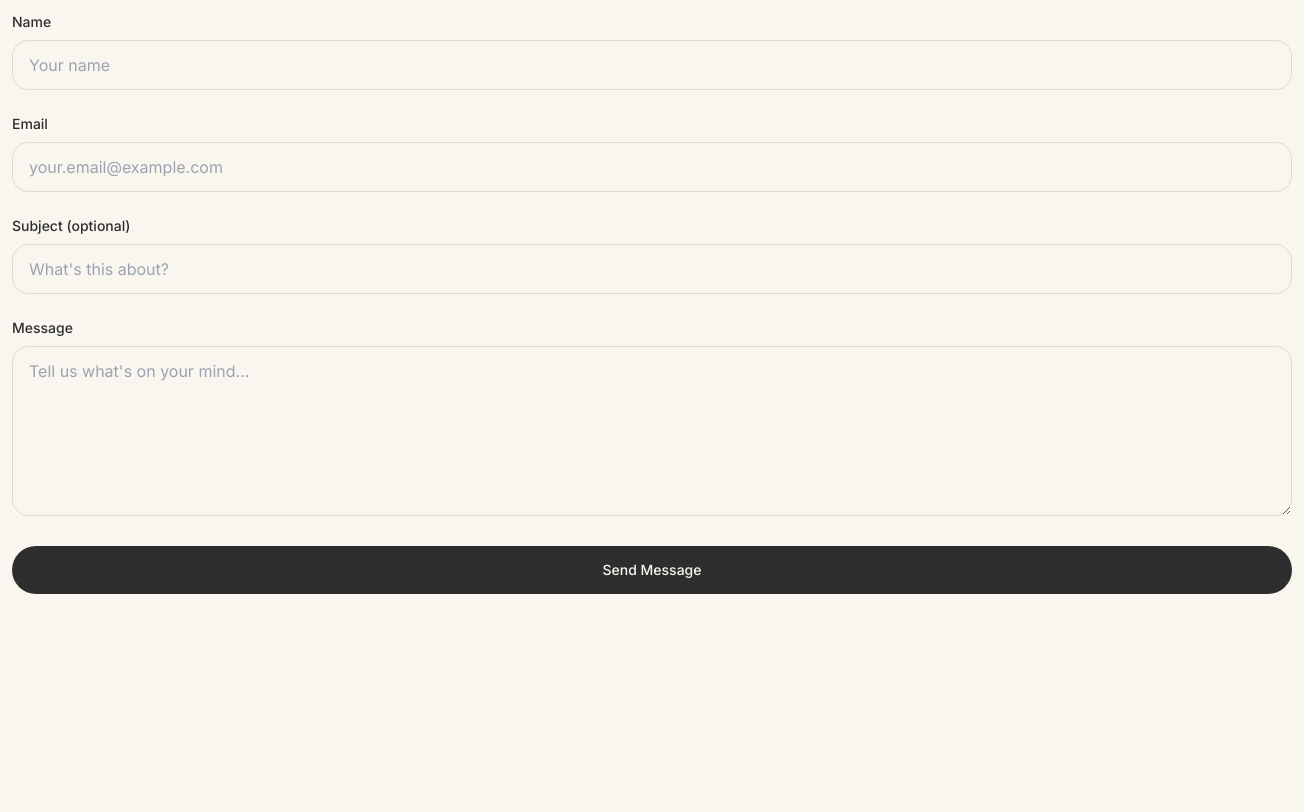
Scenario: ContactForm › shows an error and keeps what the reader wrote when the function fails
Type "Ada" into the field labelled "Name" at (652, 65), box [12,40,1292,90]
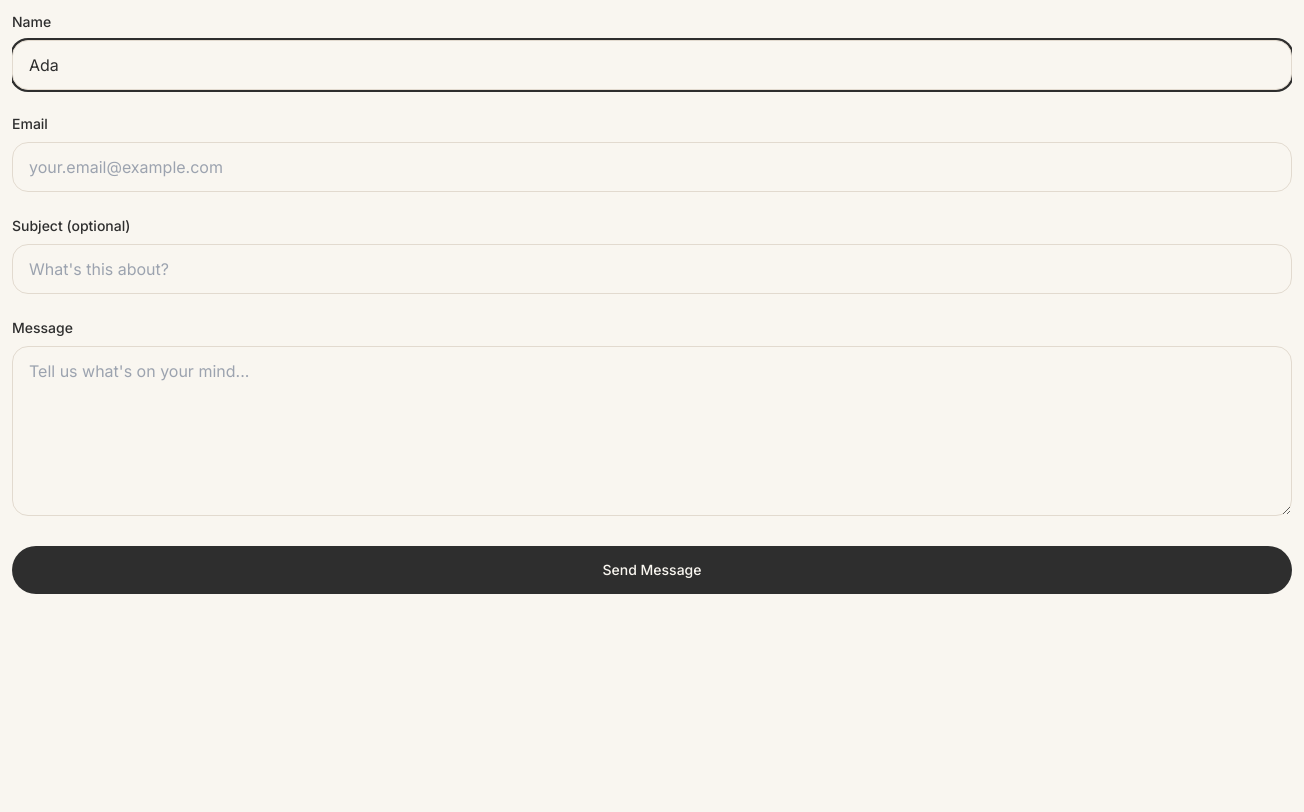
Type "ada@example.com" into the field labelled "Email" at (652, 167), box [12,142,1292,192]
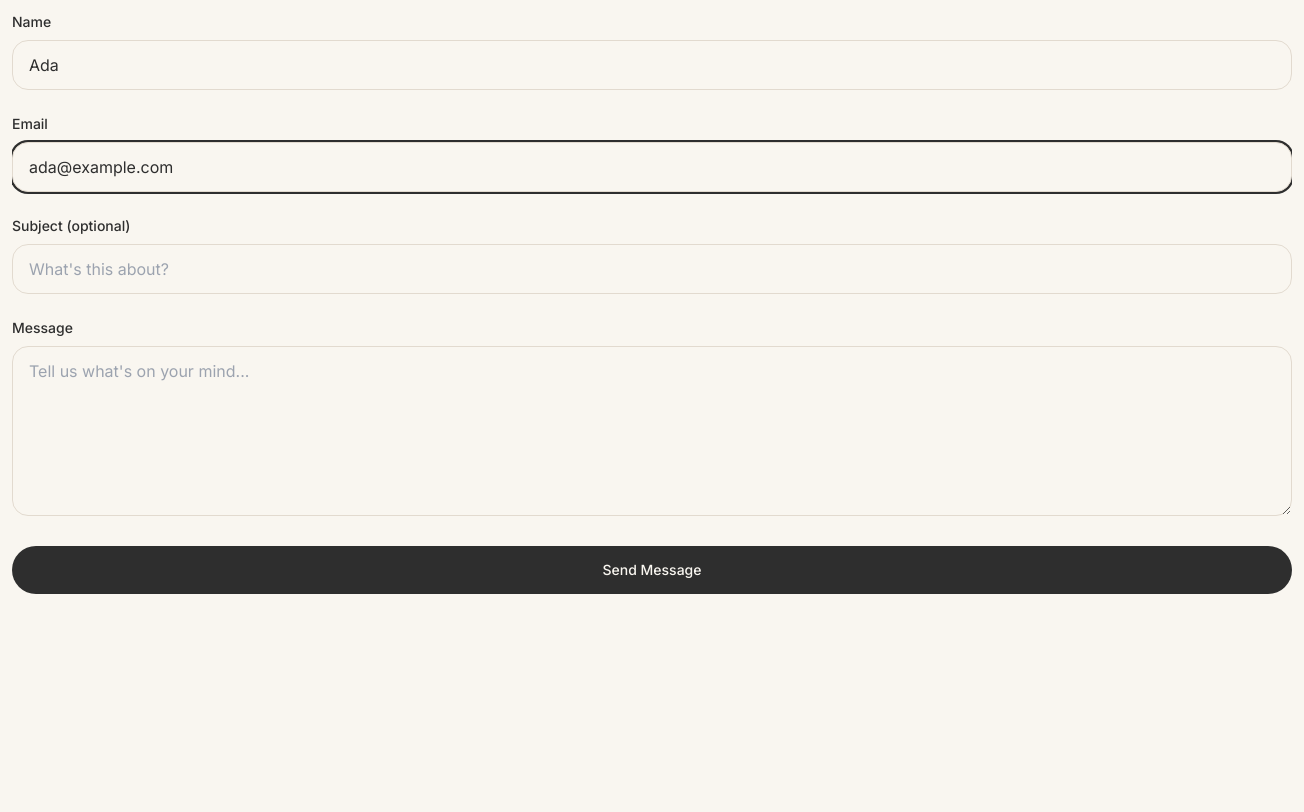
Type "Hello" into the field labelled "Subject (optional)" at (652, 269), box [12,244,1292,294]
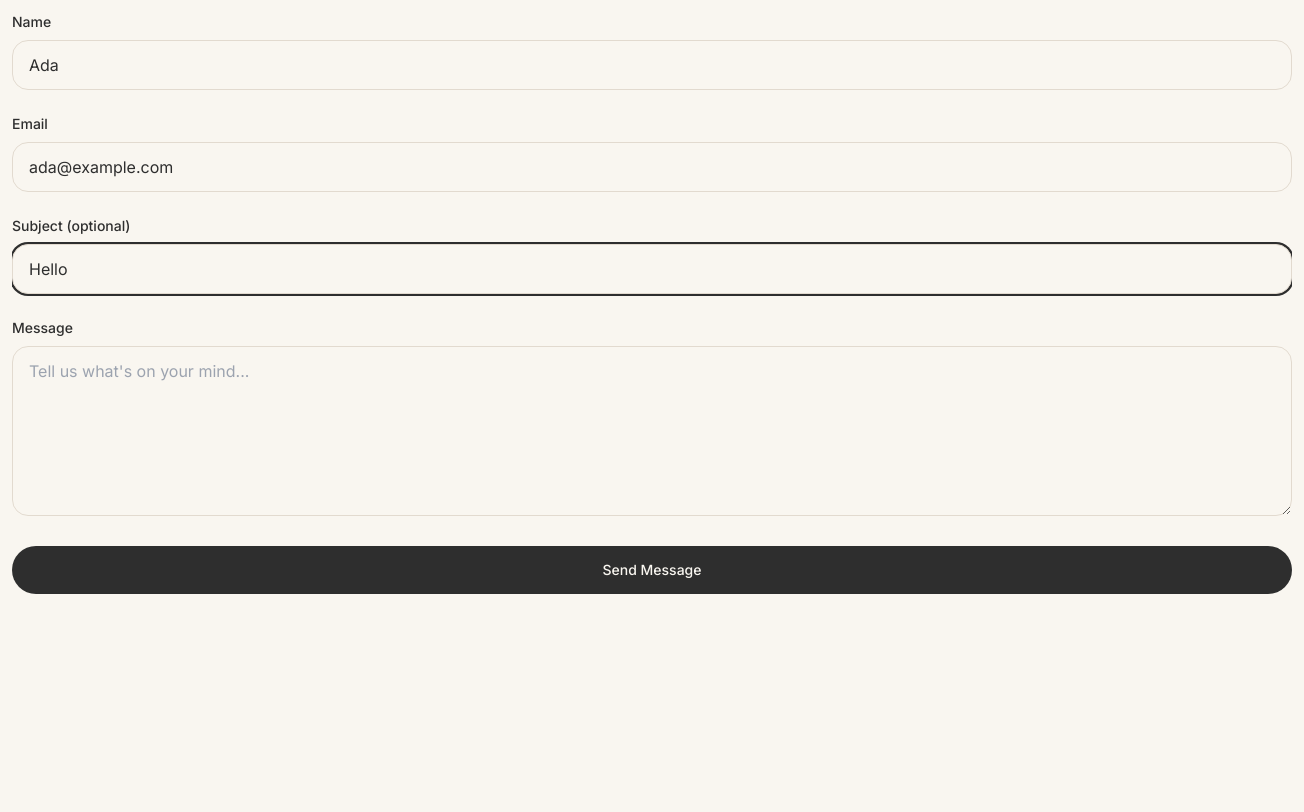
Type "Lovely site." into the text box labelled "Message" at (652, 431), box [12,346,1292,516]
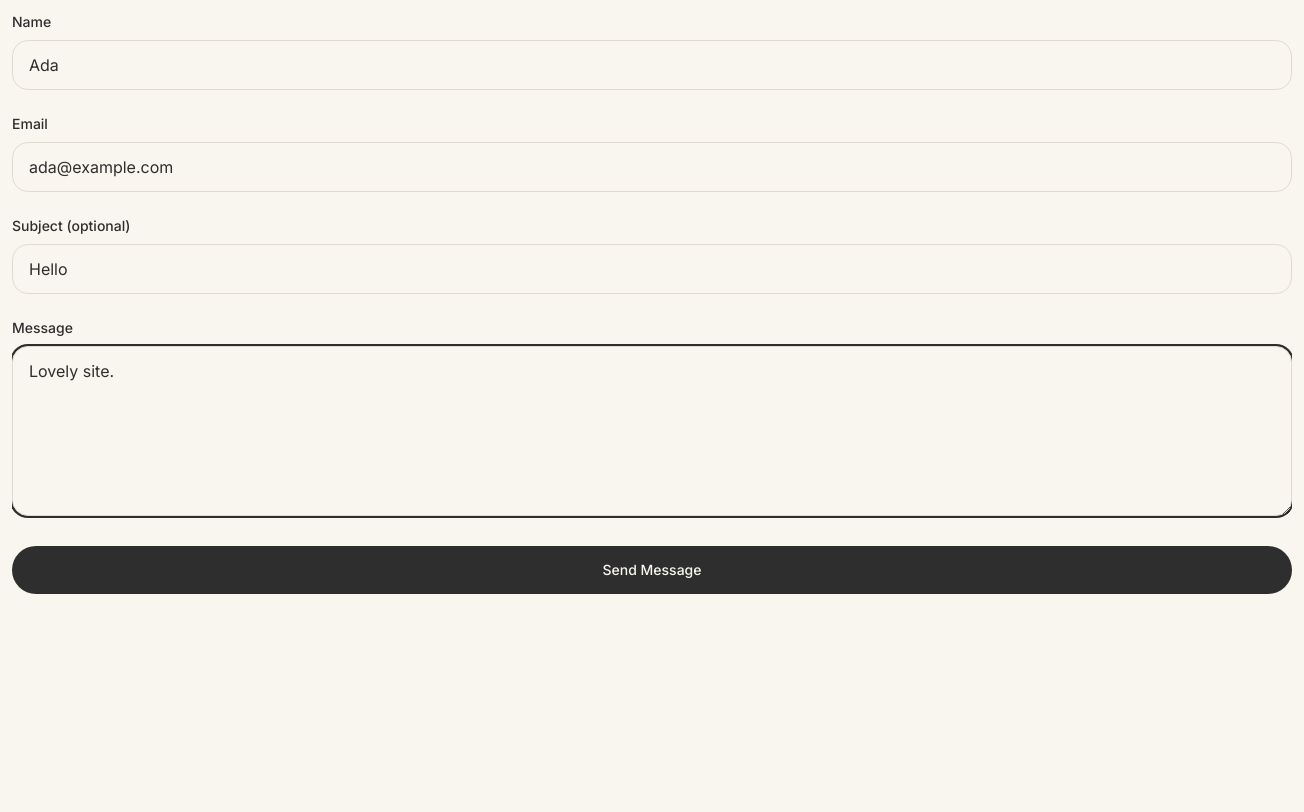
Click the button "Send Message" at (652, 570), box [12,546,1292,594]
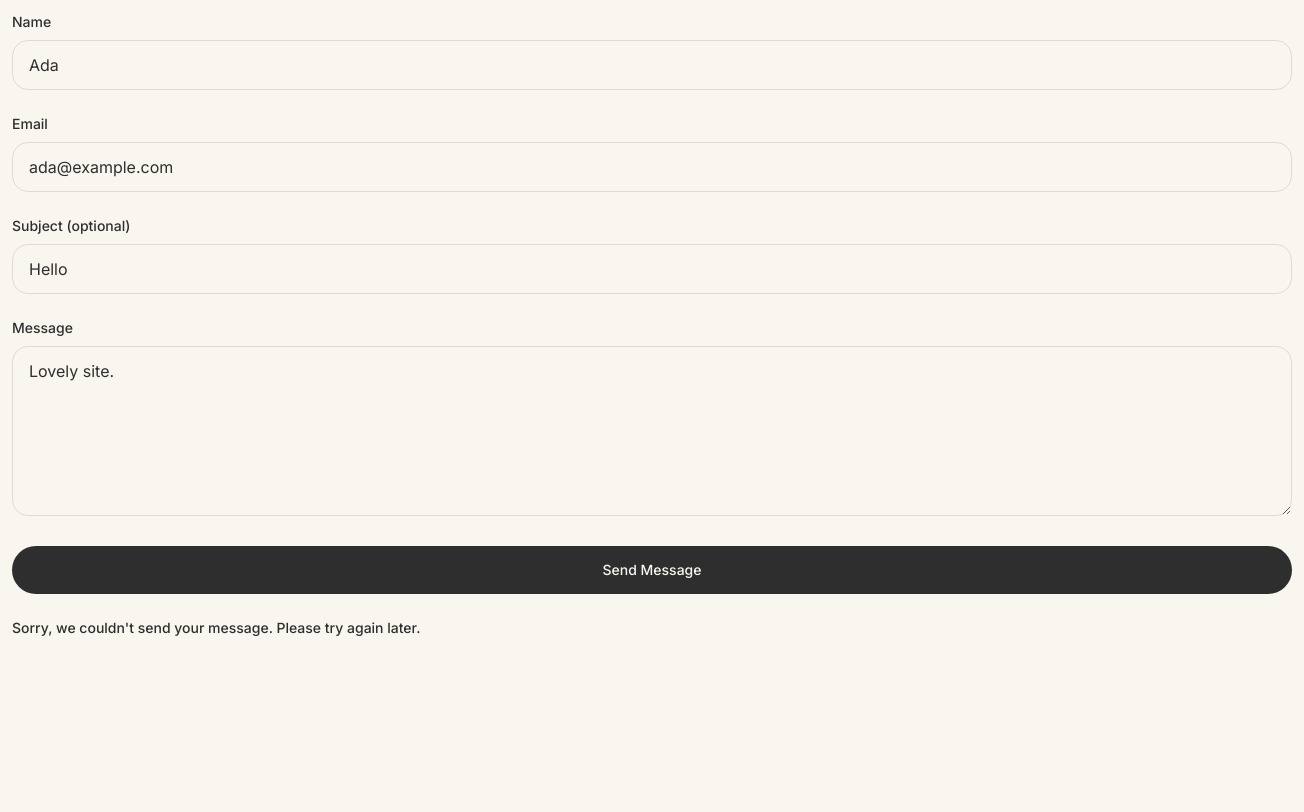
Check: the message shows "couldn't send your message", box [12,619,420,636]
